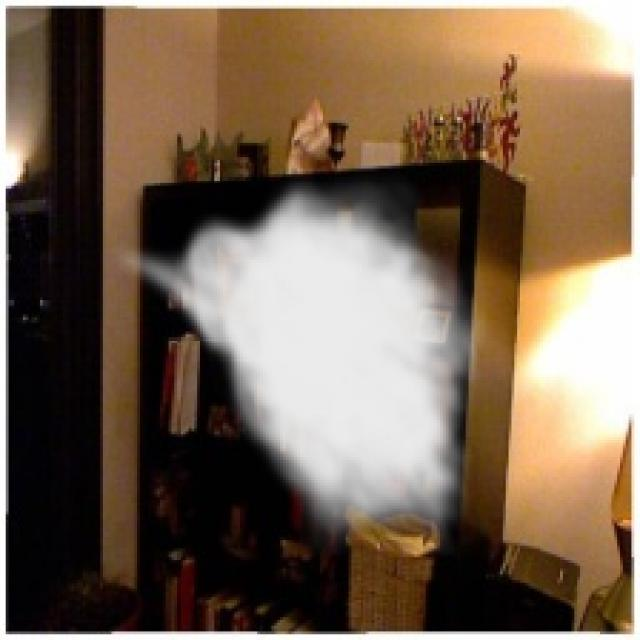smoke: (109, 172, 488, 557)
